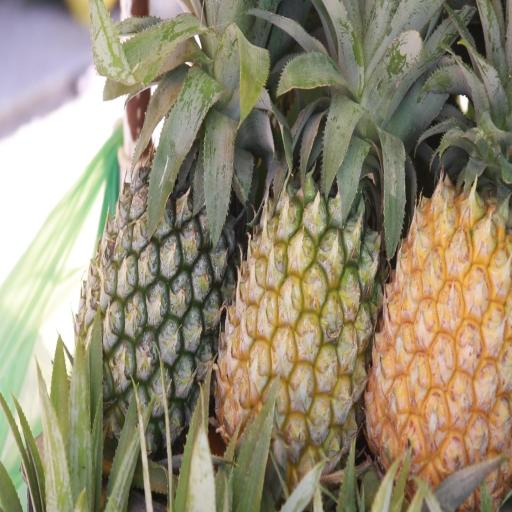------------------------------: (214, 46, 384, 502)
Pineapple - v8 v1: (361, 32, 512, 512)
